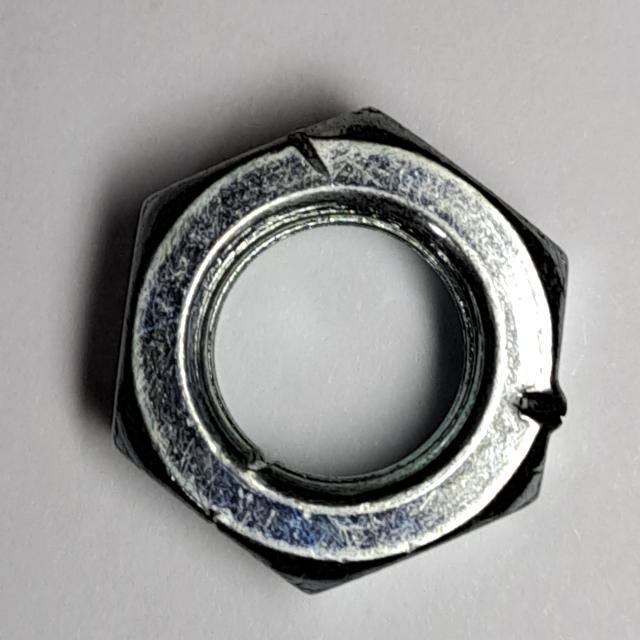Scratches: (104, 85, 589, 610)
